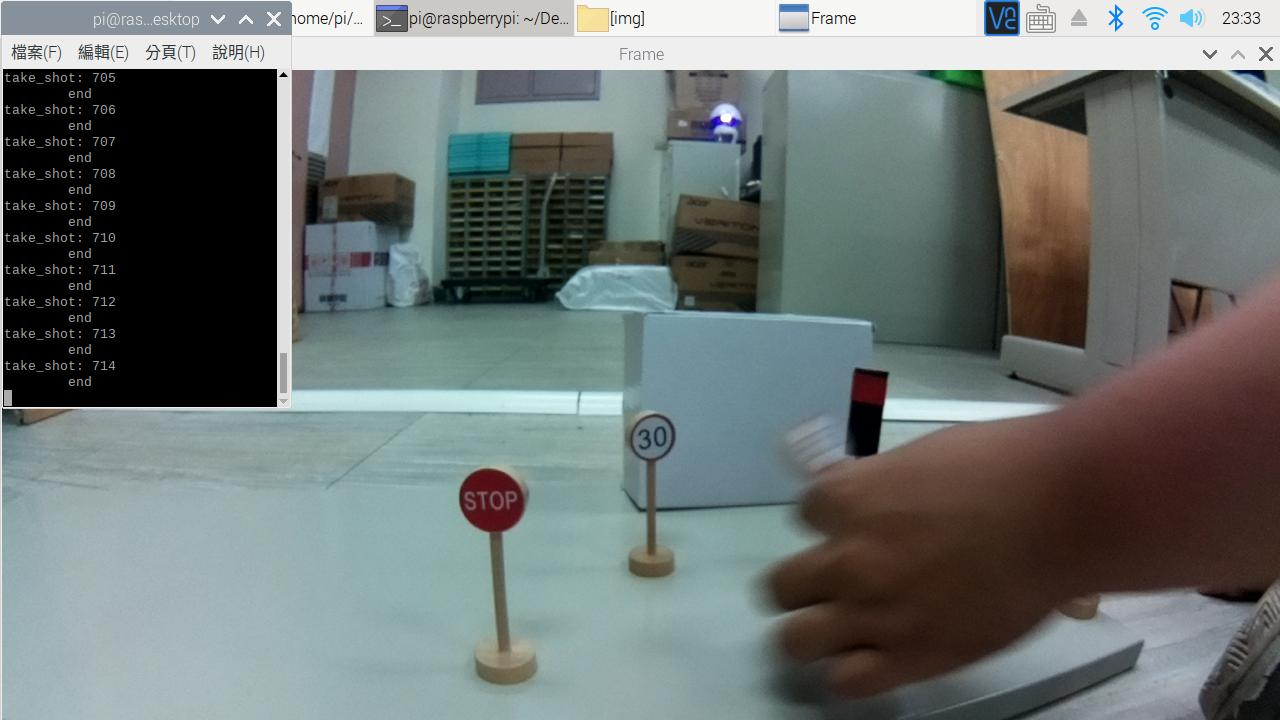Red: (834, 361, 898, 464)
Speed30: (620, 405, 689, 472)
Stop: (446, 453, 538, 546)
